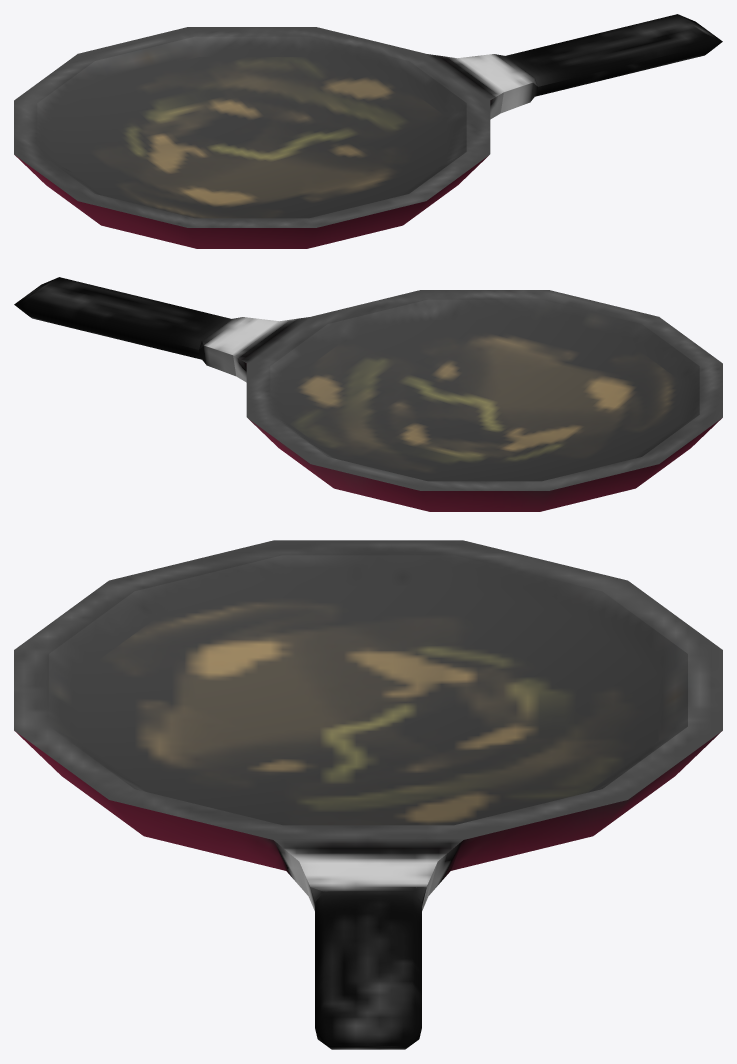
The model's file is FryingPanOil.fbx.
3 views of the same model, one above another, from view 1: azimuth 30°, elevation 25°; view 2: azimuth 150°, elevation 25°; view 3: azimuth 270°, elevation 25° (orthographic). The views are drawn at different scales.
Parts seen in each view (by area): view 1: StirFry.002; view 2: StirFry.002; view 3: StirFry.002.
Boxes of the visible parts, x1,y1,x2,y2 form: StirFry.002: [14, 14, 722, 248]; StirFry.002: [14, 277, 722, 511]; StirFry.002: [14, 540, 722, 1049].
Size of the model in its own units: 70.96 by 5.19 by 44.11.
